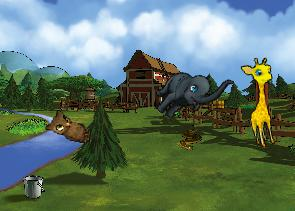elephant: (147, 48, 234, 137)
giraffe: (239, 55, 286, 149)
owl: (44, 107, 95, 144)
